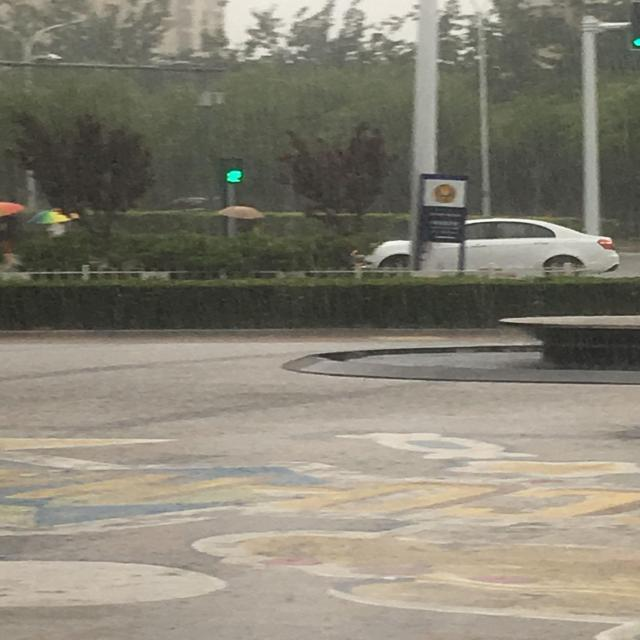car: (365, 219, 620, 276)
